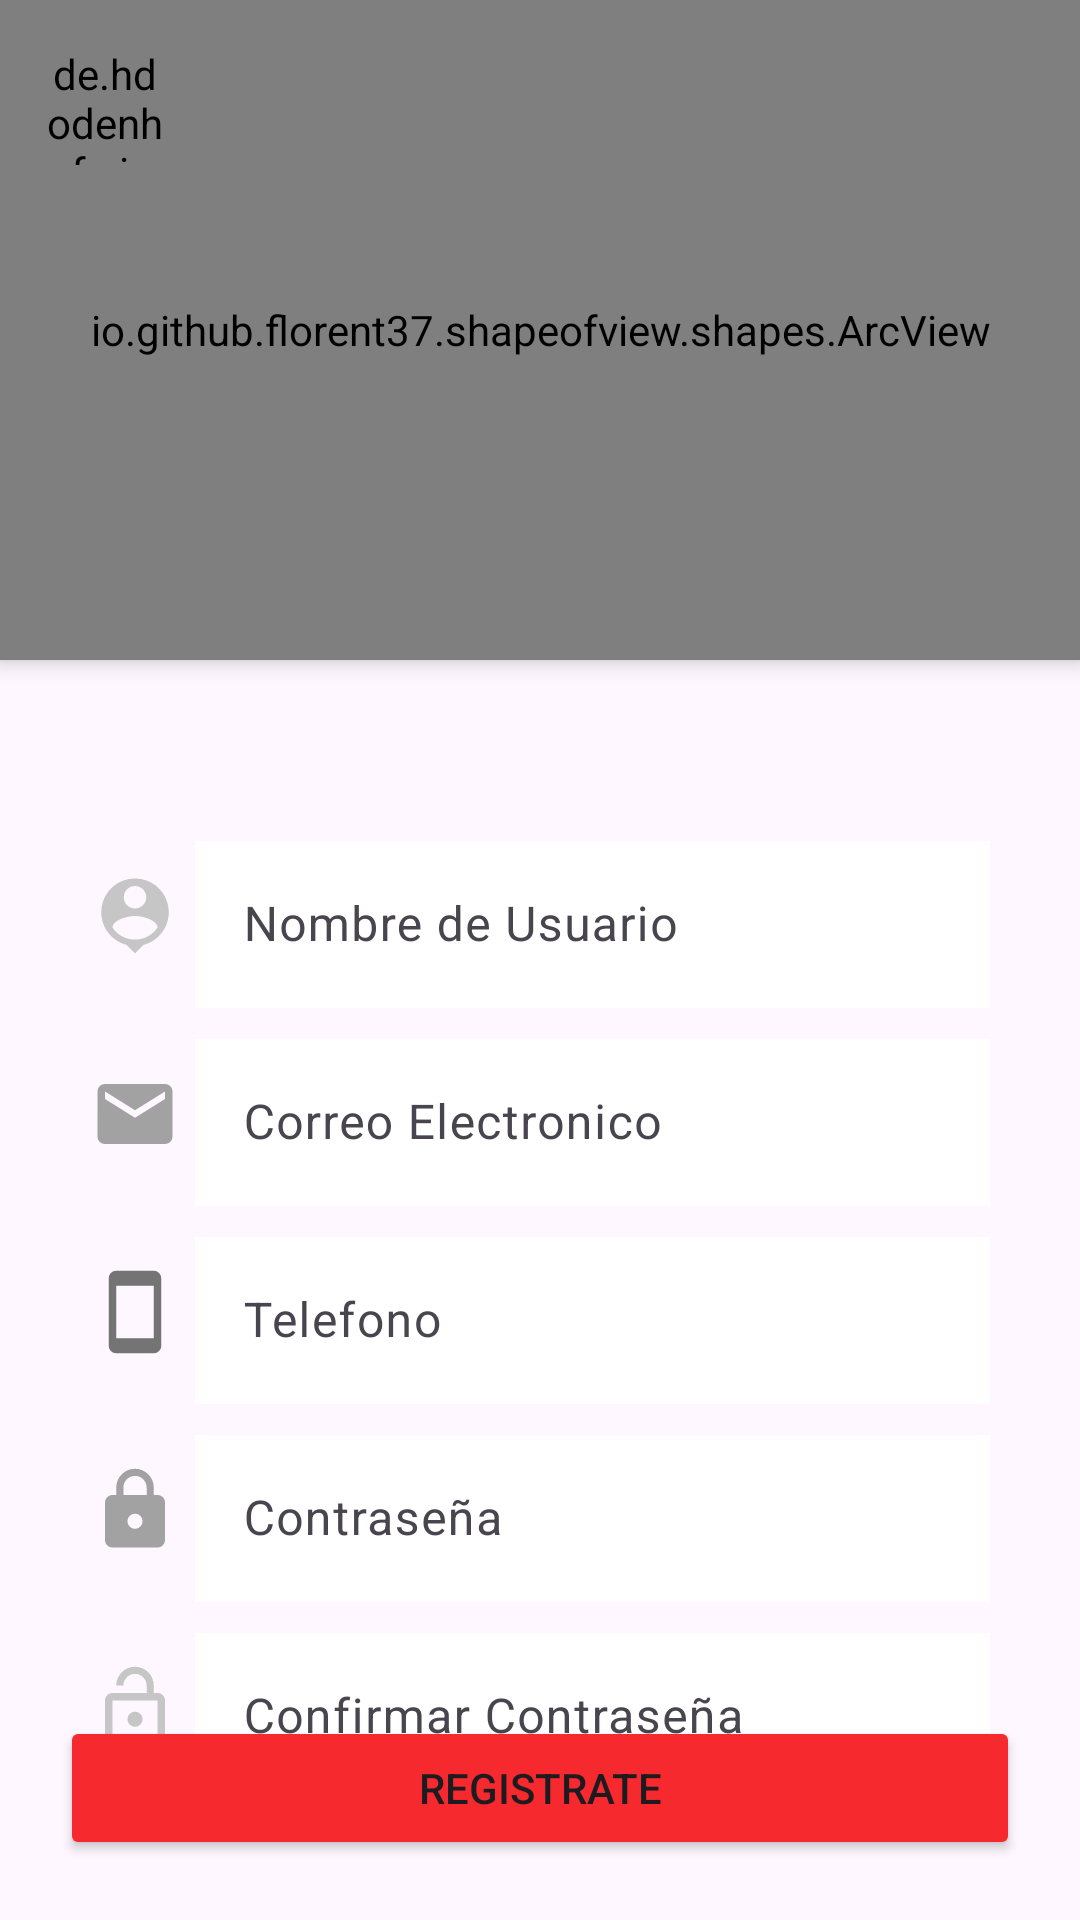

Where icons sit on this 1080 × 1920 app screen, as (x1, y1, x2, y2):
email: (97, 1084, 173, 1144)
password: (105, 1469, 165, 1548)
personping: (101, 878, 169, 953)
phone: (108, 1270, 162, 1354)
